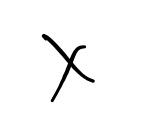mult: (41, 33, 95, 102)
